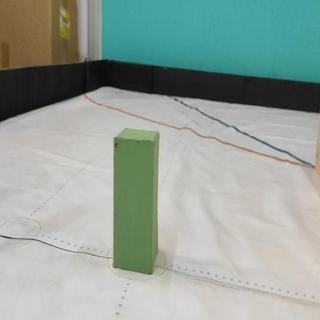greenbox: (113, 127, 160, 276)
